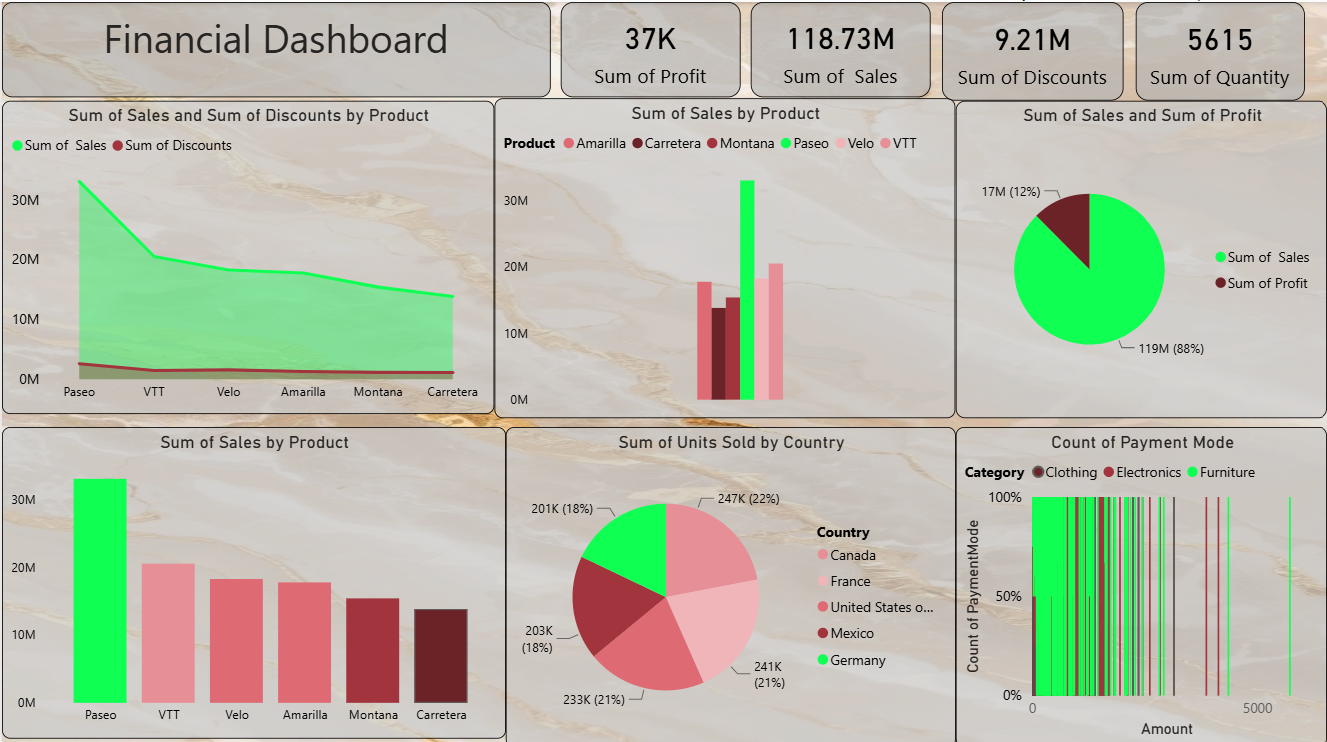

This screenshot's page, from the dashboard's own definition file:
{"tool":"powerbi","page":{"name":"Page 1","canvas":[1280,720],"ordinal":0},"visuals":[{"type":"columnChart","fields":{"Category":["financials.Product"],"Y":["Sum(financials. Sales)"]},"box":[0,410.2,486.2,300.4],"z":0},{"type":"pieChart","fields":{"Y":["Sum(financials. Sales)","Sum(financials.Profit)"]},"box":[920.5,95.3,359.5,306.4],"z":1000},{"type":"pieChart","fields":{"Y":["Sum(financials.Units Sold)"],"Category":["financials.Country"]},"box":[486,410,434.5,309.5],"z":2000},{"type":"lineClusteredColumnComboChart","fields":{"Series":["financials.Product"],"Y":["Sum(financials. Sales)"]},"box":[475.3,92.9,445.2,308.8],"z":3000},{"type":"areaChart","fields":{"Y":["Sum(financials. Sales)","Sum(financials.Discounts)"],"Category":["financials.Product"]},"box":[0,95,475.2,302.8],"z":4000},{"type":"textbox","box":[0,0,529.5,92.3],"z":5000},{"type":"hundredPercentStackedColumnChart","title":"Count of Payment Mode","fields":{"Category":["Details.Amount"],"Series":["Details.Category"],"Y":["CountNonNull(Details.PaymentMode)"]},"box":[920.5,410.2,359.5,308.8],"z":6000},{"type":"card","fields":{"Values":["Sum(Details.Profit)"]},"box":[539,0,173.8,92.3],"z":7000},{"type":"card","fields":{"Values":["Sum(financials. Sales)"]},"box":[722.3,0,173.8,92.3],"z":8000},{"type":"card","fields":{"Values":["Sum(financials.Discounts)"]},"box":[906.9,0,175.1,95],"z":9000},{"type":"card","fields":{"Values":["Sum(Details.Quantity)"]},"box":[1094.3,0,162.9,95],"z":10000}]}

Visuals, with their boxes in screenshot pixels (x1, y1, x2, y2), scaled from the page's 1280x720 canvas onto the 1327x742 screenshot:
columnChart - financials.Product x Sum(financials. Sales): (left=0, top=423, right=504, bottom=732)
pieChart - Sum(financials. Sales) x Sum(financials.Profit): (left=954, top=98, right=1326, bottom=414)
pieChart - Sum(financials.Units Sold) x financials.Country: (left=504, top=423, right=954, bottom=741)
lineClusteredColumnComboChart - financials.Product x Sum(financials. Sales): (left=493, top=96, right=954, bottom=414)
areaChart - Sum(financials. Sales) x Sum(financials.Discounts): (left=0, top=98, right=493, bottom=410)
textbox: (left=0, top=0, right=549, bottom=95)
"Count of Payment Mode" hundredPercentStackedColumnChart: (left=954, top=423, right=1326, bottom=741)
card - Sum(Details.Profit): (left=559, top=0, right=739, bottom=95)
card - Sum(financials. Sales): (left=749, top=0, right=929, bottom=95)
card - Sum(financials.Discounts): (left=940, top=0, right=1122, bottom=98)
card - Sum(Details.Quantity): (left=1134, top=0, right=1303, bottom=98)
